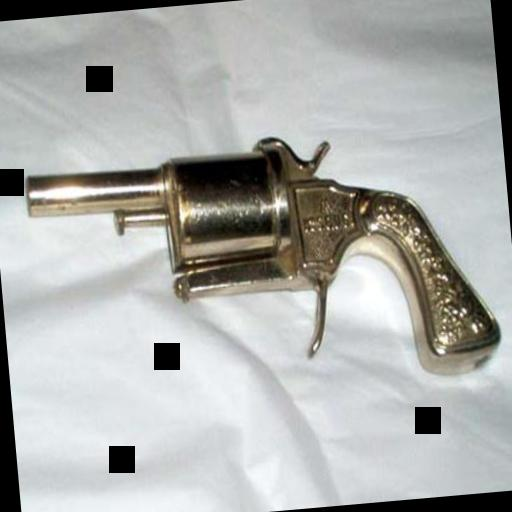Handgun: (18, 116, 504, 410)
